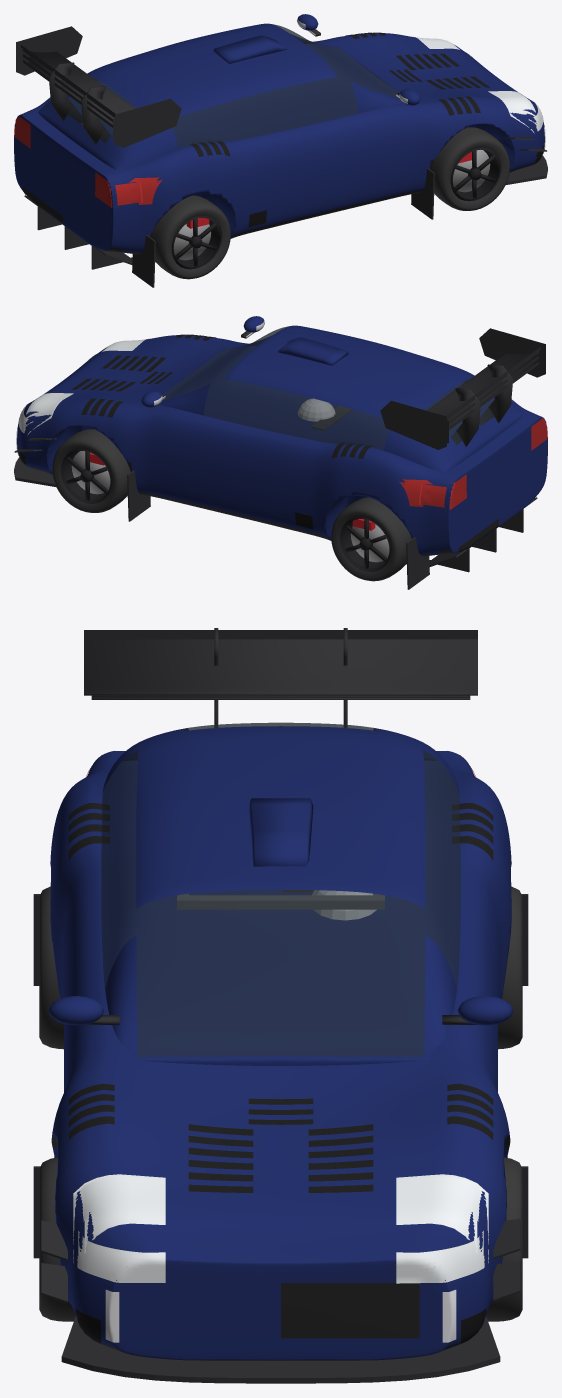
The model's file is peugeot_208_wrx.glb.
3 renders of one model, top to bottom at view 1: azimuth 30°, elevation 25°; view 2: azimuth 150°, elevation 25°; view 3: azimuth 270°, elevation 25°, orthographic. The views are drawn at different scales.
Visible parts, largest first — view 1: body, cabin, bumper_rear, wing_rear_up3, wheel_fr_spin, wheel_rr_spin, bumper_front, mudflaps, diffuser, wing_rear_up2, wing_rear, splitter_up (+1 smaller); view 2: body, cabin, bumper_rear, wing_rear_up3, wheel_fl_spin, wheel_rl_spin, bumper_front, mudflaps, diffuser, interior, wing_rear_up2, wing_rear (+2 smaller); view 3: body, cabin, bumper_front, wing_rear_up3, splitter_up, splitter, interior, canards, mudflaps, wheel_rl_spin, wheel_rr_spin, wheel_fl_spin (+6 smaller).
Part boxes in pixels (x1,y1,x2,y2): body: (42, 32, 514, 254); cabin: (38, 23, 402, 169); bumper_rear: (14, 103, 142, 253); wing_rear_up3: (16, 26, 181, 147); wheel_fr_spin: (431, 127, 509, 210); wheel_rr_spin: (150, 195, 230, 279); bumper_front: (412, 36, 545, 172); mudflaps: (132, 168, 434, 287); diffuser: (24, 195, 132, 269); wing_rear_up2: (18, 40, 114, 138); wing_rear: (18, 47, 114, 141); splitter_up: (494, 155, 547, 186); body: (47, 334, 519, 556); cabin: (159, 325, 523, 471); bumper_rear: (419, 405, 547, 555); wing_rear_up3: (380, 328, 545, 449); wheel_fl_spin: (52, 429, 130, 512); wheel_rl_spin: (331, 497, 411, 581); bumper_front: (16, 338, 149, 474); mudflaps: (127, 470, 429, 589); diffuser: (429, 497, 537, 572); interior: (298, 398, 352, 430); wing_rear_up2: (447, 342, 543, 440); wing_rear: (447, 349, 543, 443); body: (50, 768, 511, 1230); cabin: (101, 722, 460, 1065); bumper_front: (59, 1174, 502, 1360); wing_rear_up3: (84, 628, 477, 727); splitter_up: (61, 1316, 500, 1383); splitter: (69, 1325, 492, 1372); interior: (177, 889, 384, 920); canards: (40, 1218, 520, 1303); mudflaps: (33, 894, 528, 1258); wheel_rl_spin: (498, 886, 522, 1049); wheel_rr_spin: (39, 886, 63, 1049); wheel_fl_spin: (486, 1157, 522, 1321).
Size of the model in its own units: 4.1 by 1.55 by 1.95.
